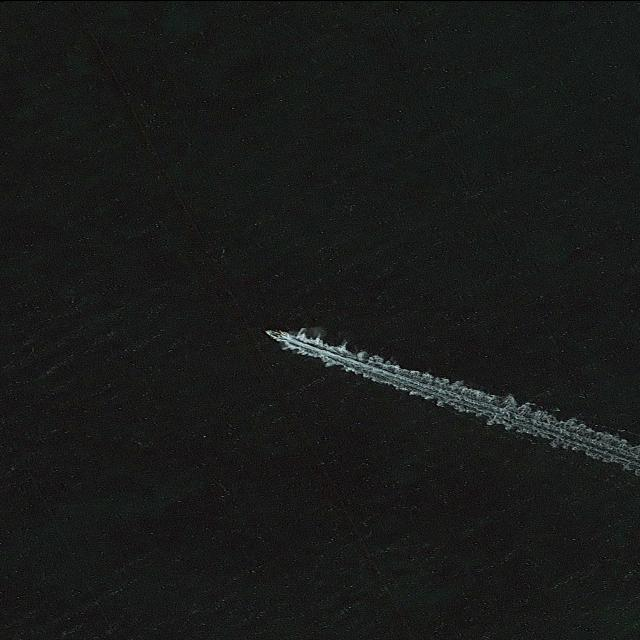ship: (260, 326, 290, 341)
